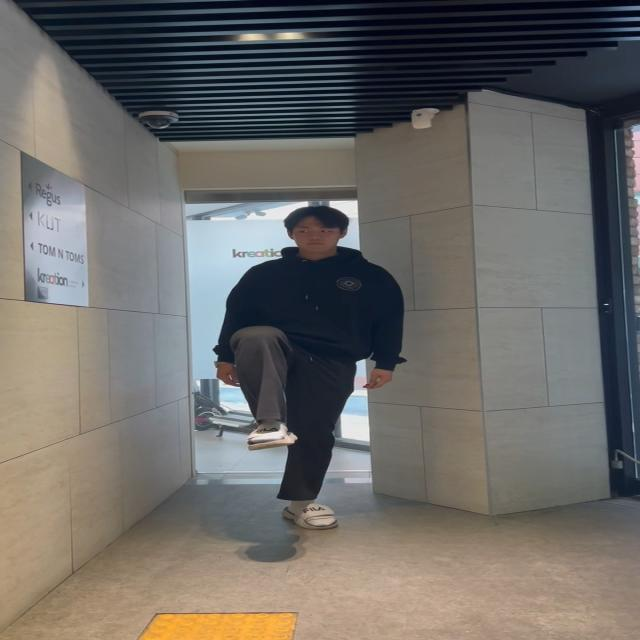knee: (233, 323, 301, 458)
